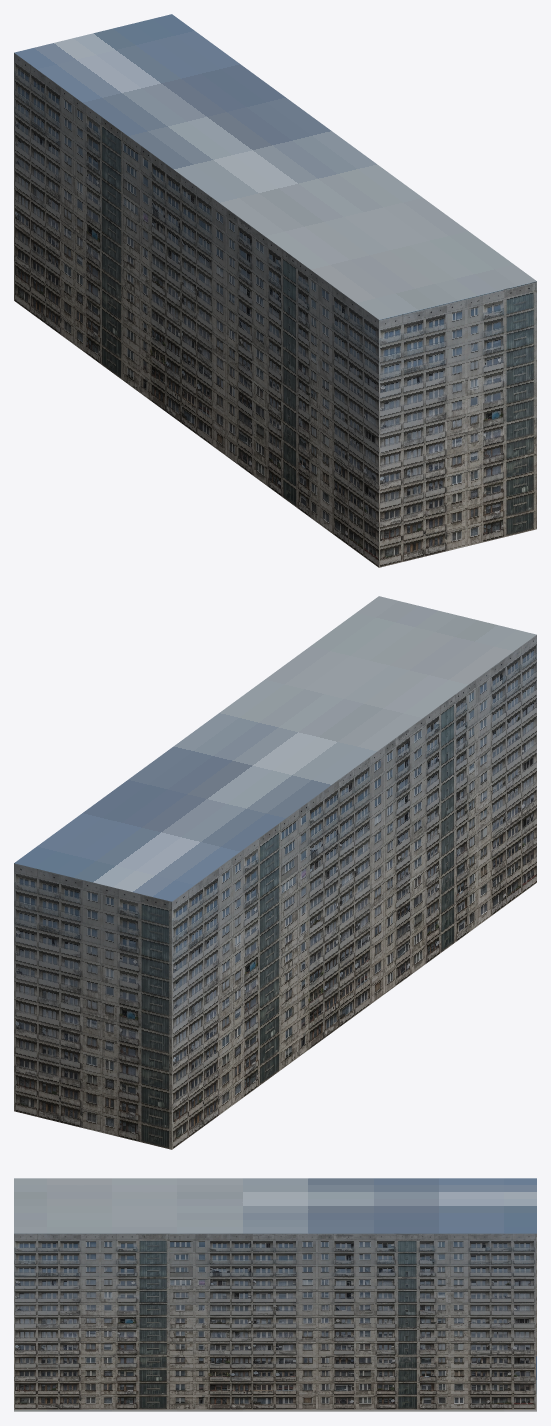
The model's file is building_03.gltf.
The picture shows the model from 3 angles, top to bottom: view 1: azimuth 30°, elevation 25°; view 2: azimuth 150°, elevation 25°; view 3: azimuth 270°, elevation 25°; orthographic projection. The views are drawn at different scales.
Parts seen in each view (by area): view 1: mesh; view 2: mesh; view 3: mesh.
Part boxes in pixels (x1=…): mesh: x1=14, y1=14, x2=536, y2=567; mesh: x1=14, y1=596, x2=536, y2=1149; mesh: x1=14, y1=1178, x2=536, y2=1411.
Size of the model in its own units: 1.75 by 2.62 by 7.
1 material, 1 textured.
